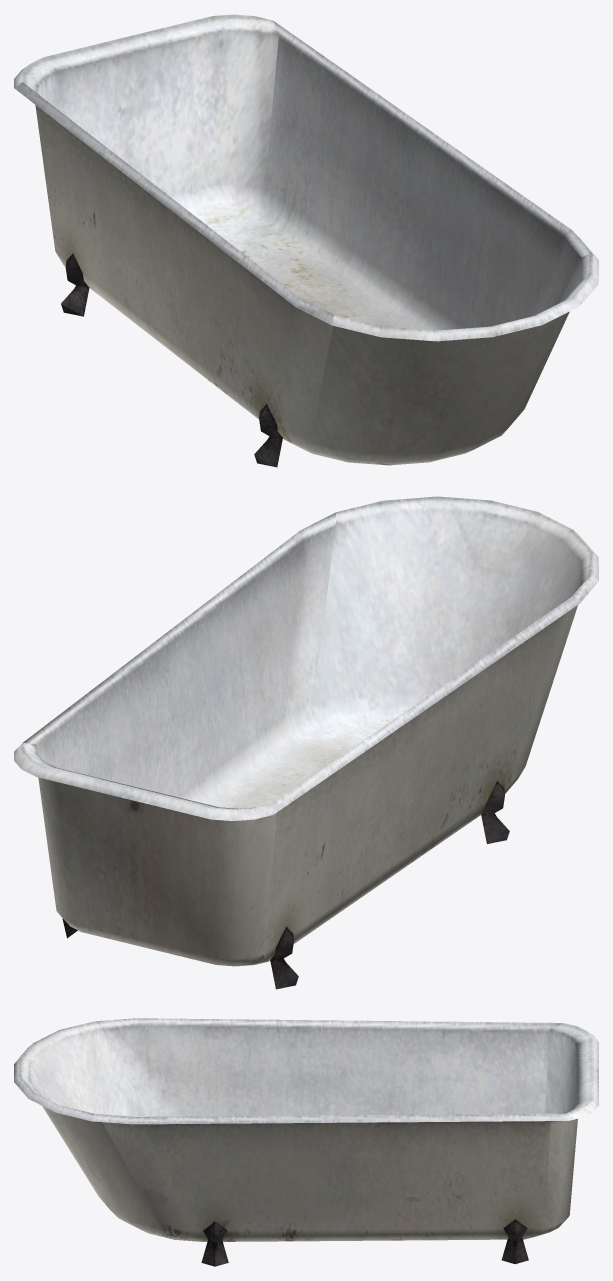
Rendered from bathtub_clawfoot.obj.
3 views of the same model, one above another, from view 1: azimuth 30°, elevation 25°; view 2: azimuth 150°, elevation 25°; view 3: azimuth 270°, elevation 25° (orthographic). The views are drawn at different scales.
Visible parts, largest first — view 1: Model001_Model001_5_Material89_1.0_0.0_0.0; view 2: Model001_Model001_5_Material89_1.0_0.0_0.0; view 3: Model001_Model001_5_Material89_1.0_0.0_0.0.
Boxes of the visible parts, x1,y1,x2,y2 form: Model001_Model001_5_Material89_1.0_0.0_0.0: (14, 14, 598, 467); Model001_Model001_5_Material89_1.0_0.0_0.0: (14, 496, 598, 989); Model001_Model001_5_Material89_1.0_0.0_0.0: (14, 1018, 598, 1266).
Size of the model in its own units: 1.01 by 0.7079 by 2.43.
